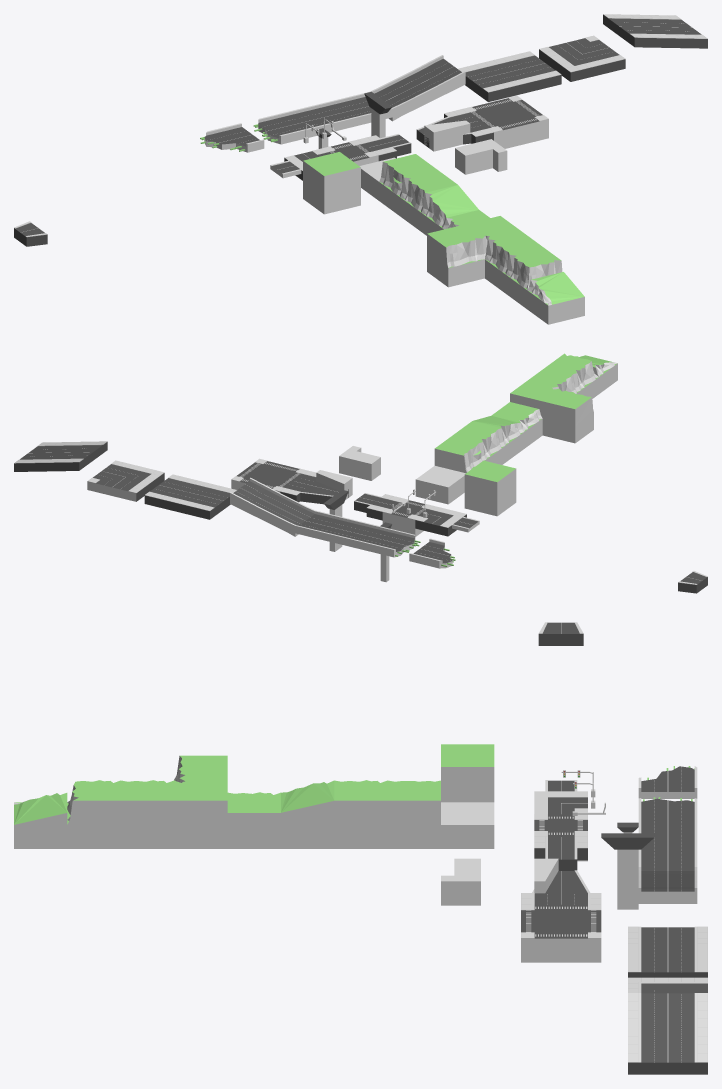
File: Road.fbx
3 views of the same model, one above another, from view 1: azimuth 30°, elevation 25°; view 2: azimuth 150°, elevation 25°; view 3: azimuth 270°, elevation 25° (orthographic). The views are drawn at different scales.
Visible parts, largest first — view 1: Cliff Corner 1, Straight 1 (Wide) Long, Cliff Ground, Straight 1 (Wide) Incline, Straight 1 (Wide) Incline 2, Intersection 2, Corner 1 (Wide), Cliff 5, Cliff Corner 2, Straight 1 (Wide) Bridge, Cliff 3, Cliff 1 (+11 smaller); view 2: Cliff Corner 1, Straight 1 (Wide) Long, Cliff Ground, Straight 1 (Wide) Incline, Straight 1 (Wide) Incline 2, Corner 1 (Wide), Straight 1 (Wide) Bridge, Cliff 1, Ground, Intersection 2, Broken 1, Cliff 2 (+14 smaller); view 3: Cliff Corner 1, Straight 1 (Wide) Incline 2, Intersection 2, Straight 1 (Wide) Long, Cliff 1, Cliff 2, Cliff Corner 2, Cliff 3, Cliff Ground, Cliff 4, Cliff 5, Straight 1 (Wide) Bridge (+14 smaller).
Boxes of the visible parts, x1=… form: Cliff Corner 1: x1=427, y1=216, x2=541, y2=293; Straight 1 (Wide) Long: x1=458, y1=51, x2=561, y2=102; Cliff Ground: x1=303, y1=152, x2=360, y2=214; Straight 1 (Wide) Incline: x1=369, y1=55, x2=465, y2=121; Straight 1 (Wide) Incline 2: x1=603, y1=14, x2=707, y2=48; Intersection 2: x1=462, y1=95, x2=548, y2=148; Corner 1 (Wide): x1=539, y1=35, x2=625, y2=81; Cliff 5: x1=527, y1=272, x2=584, y2=324; Cliff Corner 2: x1=506, y1=246, x2=562, y2=308; Straight 1 (Wide) Bridge: x1=296, y1=92, x2=392, y2=132; Cliff 3: x1=421, y1=185, x2=478, y2=235; Cliff 1: x1=379, y1=154, x2=436, y2=215; Cliff Corner 1: x1=510, y1=366, x2=593, y2=443; Straight 1 (Wide) Long: x1=144, y1=474, x2=236, y2=519; Cliff Ground: x1=464, y1=460, x2=516, y2=516; Straight 1 (Wide) Incline: x1=230, y1=477, x2=315, y2=536; Straight 1 (Wide) Incline 2: x1=14, y1=441, x2=107, y2=471; Corner 1 (Wide): x1=87, y1=460, x2=164, y2=501; Straight 1 (Wide) Bridge: x1=295, y1=510, x2=380, y2=549; Cliff 1: x1=434, y1=435, x2=485, y2=473; Ground: x1=415, y1=465, x2=465, y2=504; Intersection 2: x1=231, y1=458, x2=307, y2=492; Broken 1: x1=360, y1=526, x2=420, y2=557; Cliff 2: x1=454, y1=421, x2=504, y2=464; Cliff Corner 1: x1=120, y1=755, x2=227, y2=848; Straight 1 (Wide) Incline 2: x1=628, y1=993, x2=707, y2=1074; Intersection 2: x1=521, y1=904, x2=601, y2=962; Straight 1 (Wide) Long: x1=628, y1=926, x2=707, y2=977; Cliff 1: x1=387, y1=780, x2=440, y2=848; Cliff 2: x1=334, y1=780, x2=387, y2=848; Cliff Corner 2: x1=67, y1=780, x2=120, y2=848; Cliff 3: x1=281, y1=780, x2=334, y2=848; Cliff Ground: x1=441, y1=744, x2=494, y2=802; Cliff 4: x1=227, y1=792, x2=280, y2=848; Cliff 5: x1=14, y1=793, x2=67, y2=848; Straight 1 (Wide) Bridge: x1=638, y1=822, x2=697, y2=870.
Bounding box in the file's own units: 3900 × 469 × 2600.
